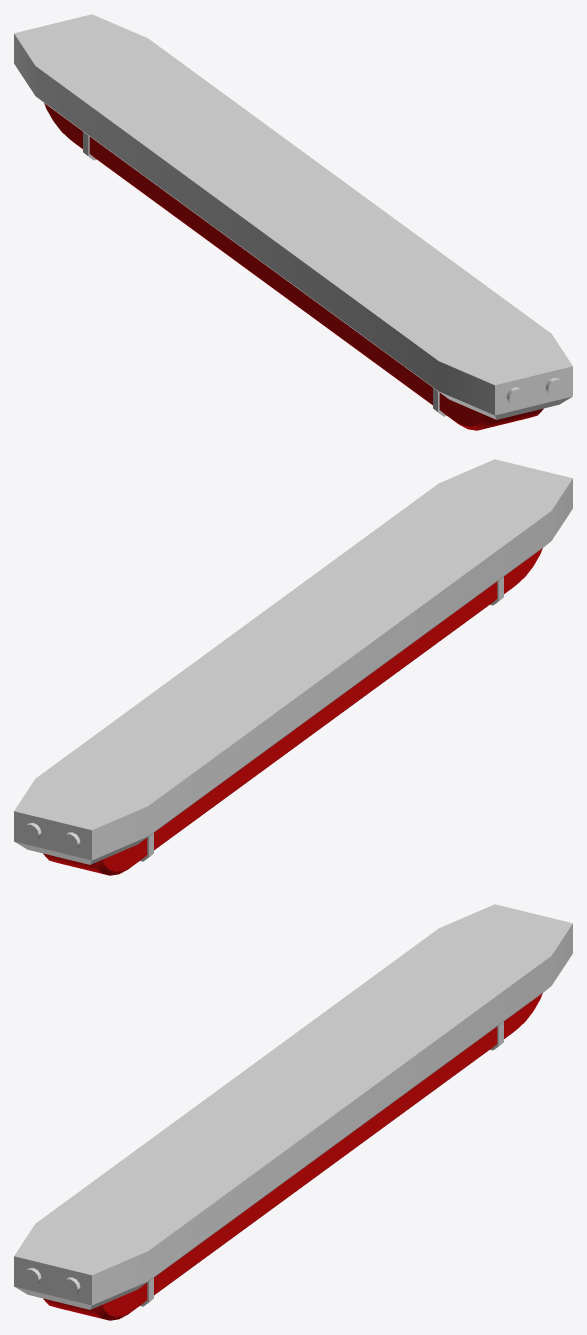
File: CeilingLight_01a.fbx
3 renders of one model, top to bottom at view 1: azimuth 30°, elevation 25°; view 2: azimuth 150°, elevation 25°; view 3: azimuth 330°, elevation 25°, orthographic.
Parts seen in each view (by area): view 1: CeilingLight_01a; view 2: CeilingLight_01a; view 3: CeilingLight_01a.
Part boxes in pixels (<box>): CeilingLight_01a: <box>14,14,572,430</box>; CeilingLight_01a: <box>14,459,572,875</box>; CeilingLight_01a: <box>14,904,572,1320</box>.
Size of the model in its own units: 8.66 by 64.72 by 5.9.
